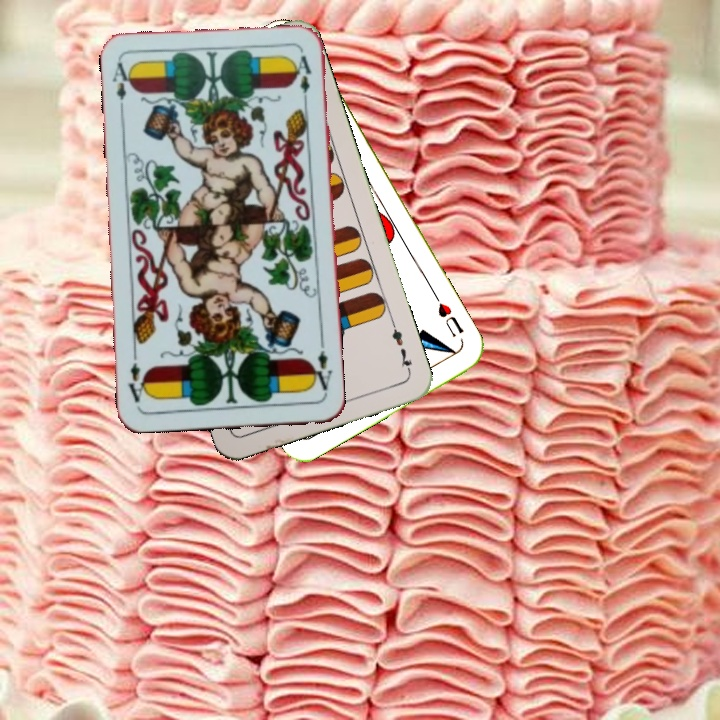E7: (387, 318, 415, 375)
EA: (307, 338, 335, 397), (108, 58, 135, 117)
HU: (430, 291, 467, 339)
